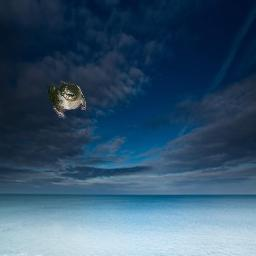Swallow: (43, 80, 86, 119)
